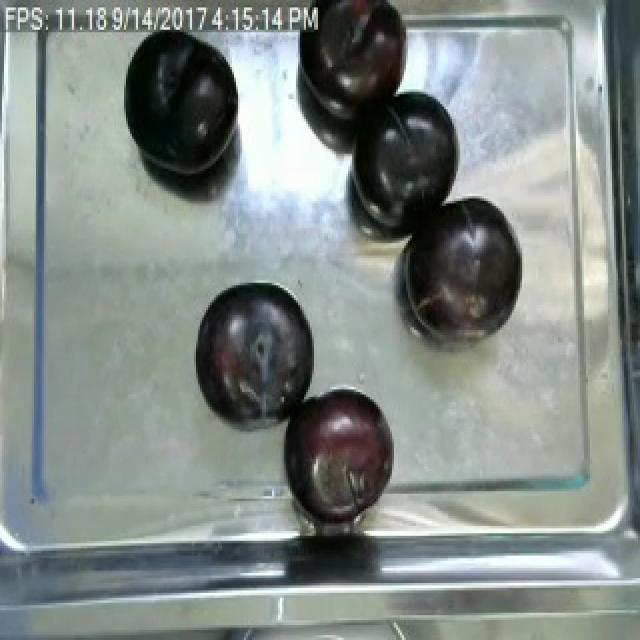Fruit: (118, 20, 248, 186), (398, 188, 524, 345), (192, 278, 318, 427), (342, 79, 464, 231), (278, 382, 396, 523)
